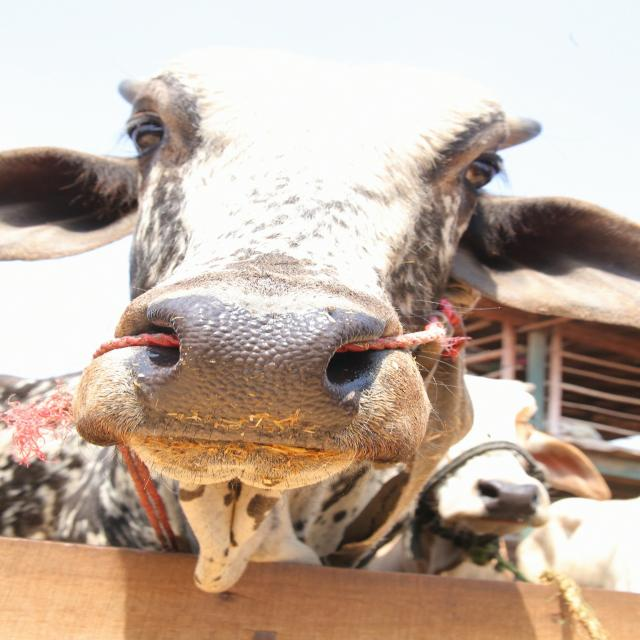muzzles: (128, 285, 390, 457)
